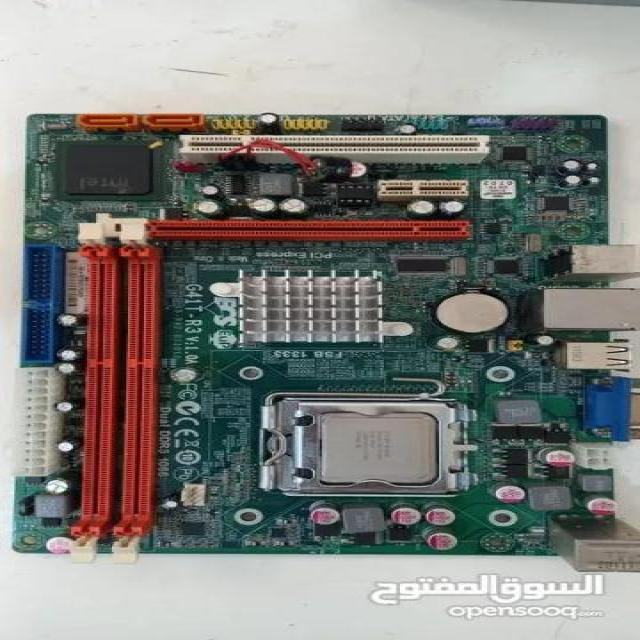CPU: (320, 414, 437, 483), (59, 143, 153, 196)
